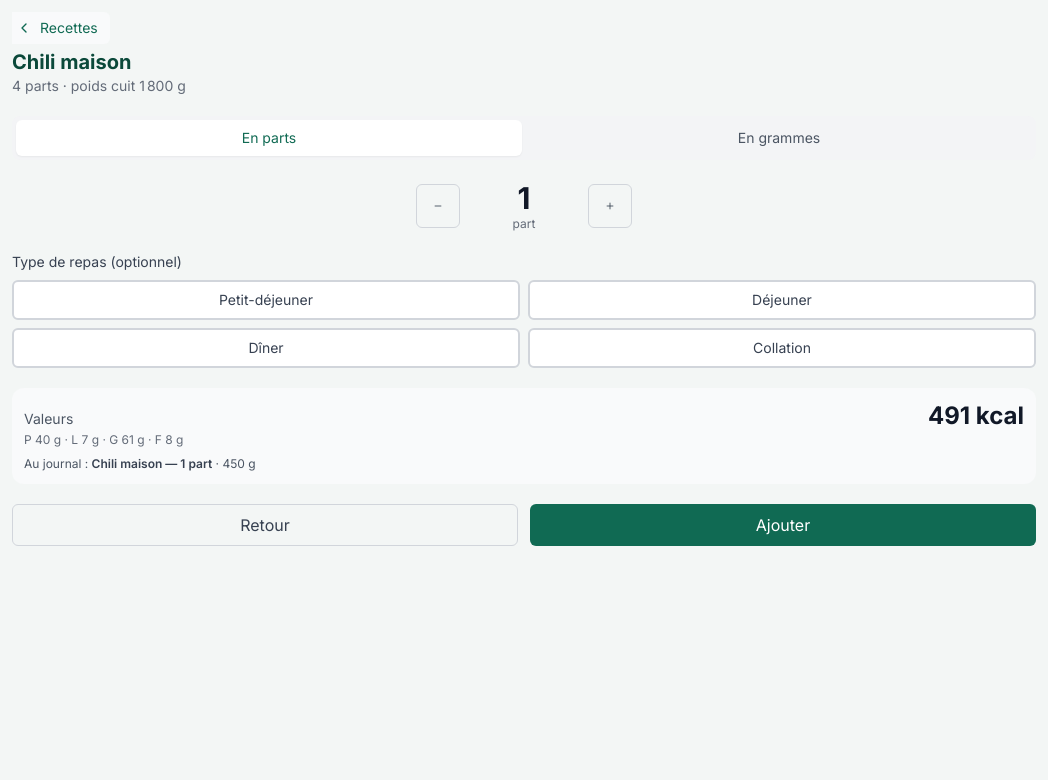
RecipePortion › avance par demi-part, entre 0,5 et 20 parts
Step 1. Click the button named "Retirer une demi-part" → click(438, 206), box [416,184,460,228]
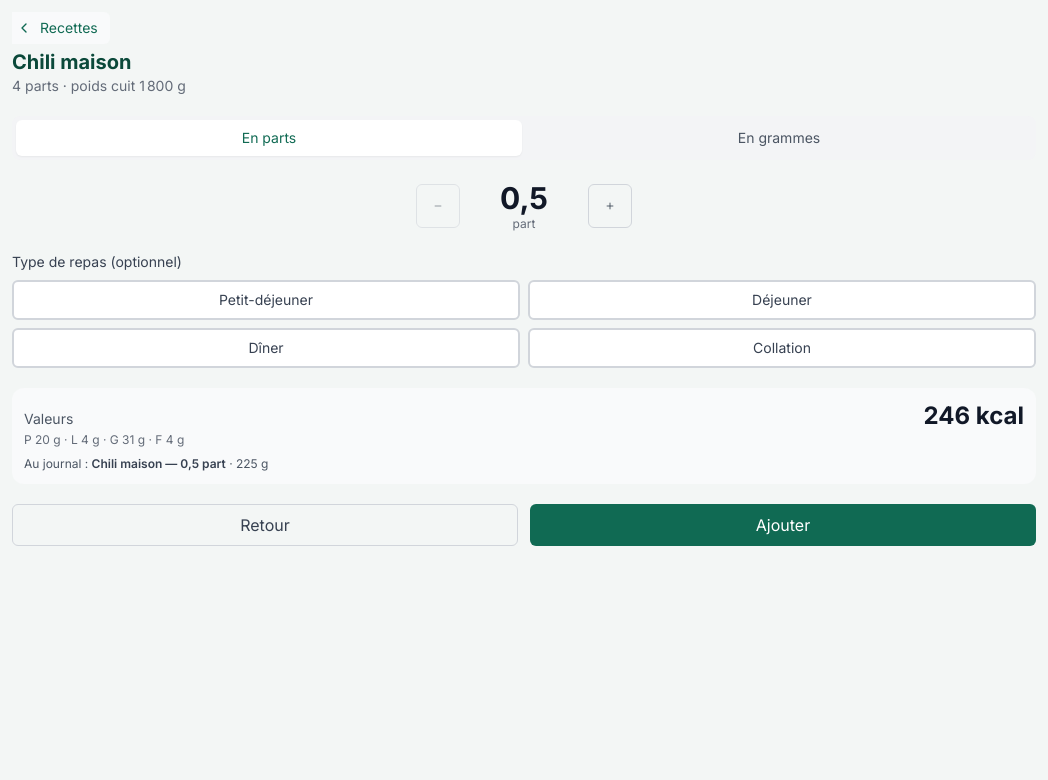
Now the text "Chili maison — 0,5 part" is shown, box [92,456,226,471]
Step 2. Click the button named "Ajouter une demi-part" → click(610, 206), box [588,184,632,228]
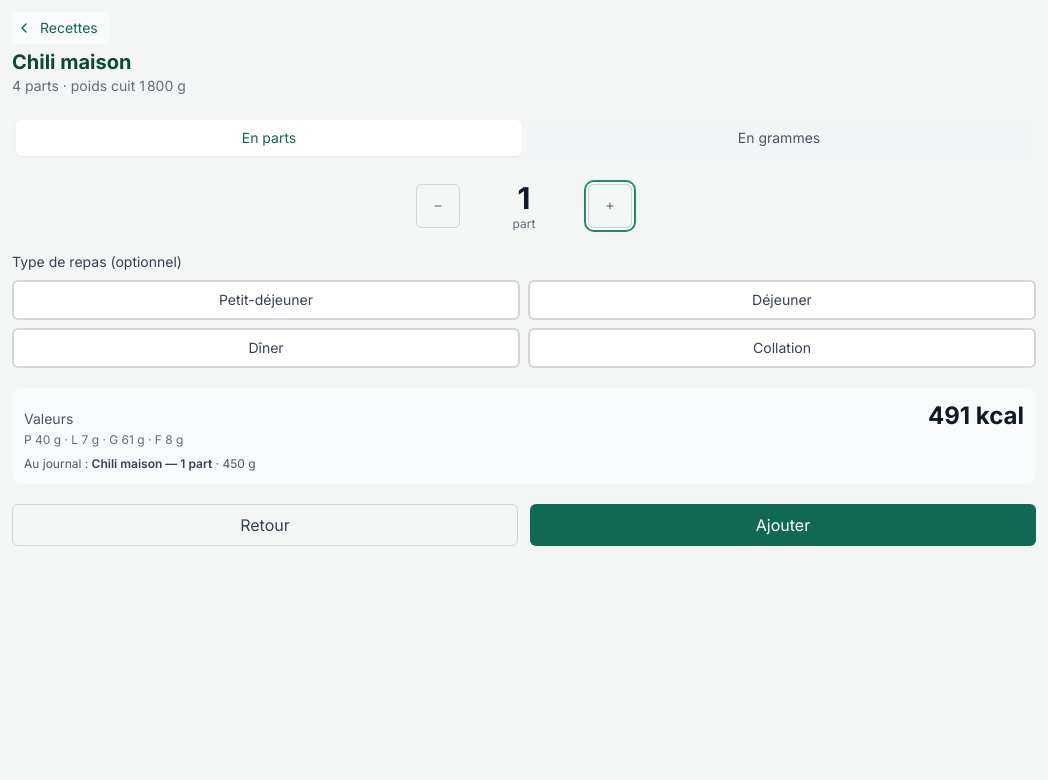
Step 3. Click the button named "Ajouter une demi-part" → click(610, 206), box [588,184,632,228]
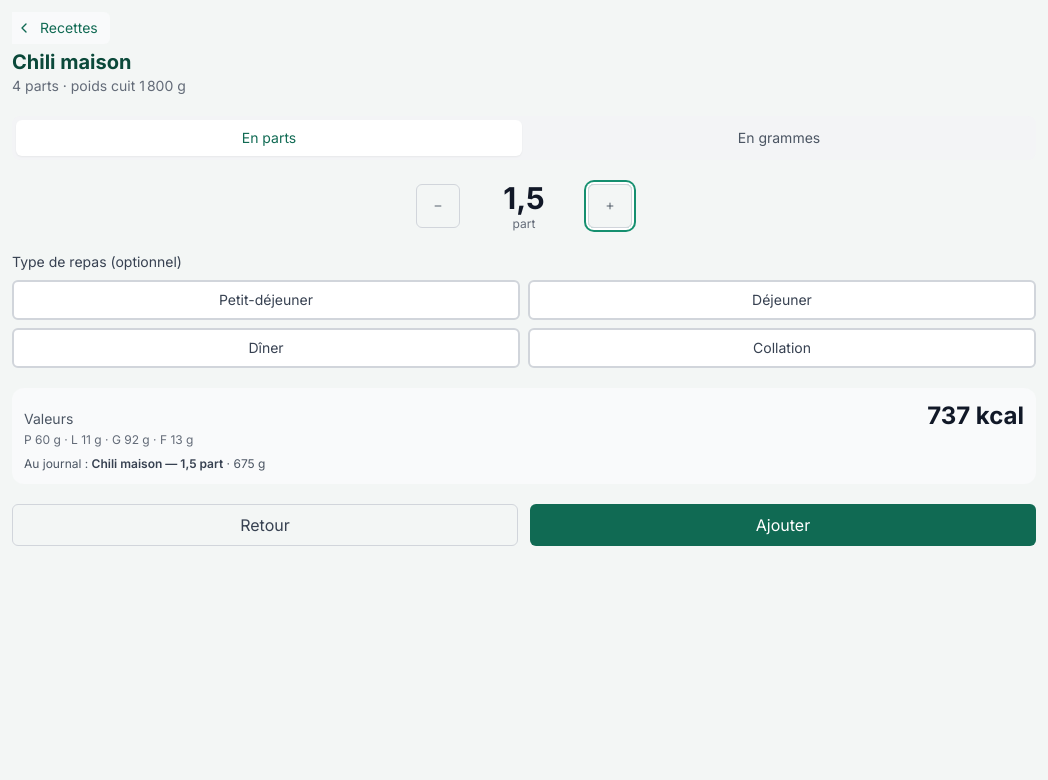
Now the text "Chili maison — 1,5 part" is shown, box [92,456,223,471]
Now the text "737 kcal" is shown, box [927,400,1024,432]
